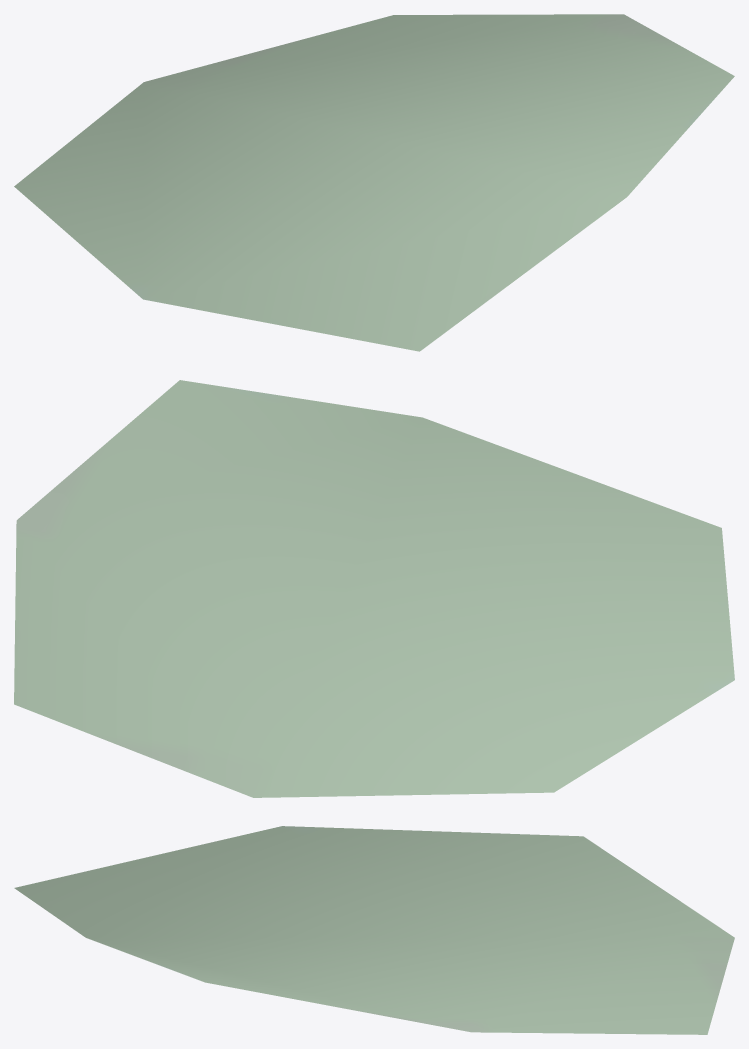
The model's file is TROLLHOLE02_HOLECAP22.fbx.
The picture shows the model from 3 angles, top to bottom: view 1: azimuth 30°, elevation 25°; view 2: azimuth 150°, elevation 25°; view 3: azimuth 270°, elevation 25°; orthographic projection. The views are drawn at different scales.
Parts seen in each view (by area): view 1: TROLLHOLE02_HOLECAP22; view 2: TROLLHOLE02_HOLECAP22; view 3: TROLLHOLE02_HOLECAP22.
Part boxes in pixels (bbox=[...]): TROLLHOLE02_HOLECAP22: bbox=[14, 14, 734, 351]; TROLLHOLE02_HOLECAP22: bbox=[14, 380, 734, 797]; TROLLHOLE02_HOLECAP22: bbox=[14, 826, 734, 1034].
Size of the model in its own units: 31874 by 6190 by 34183.
1 material, 1 textured.
